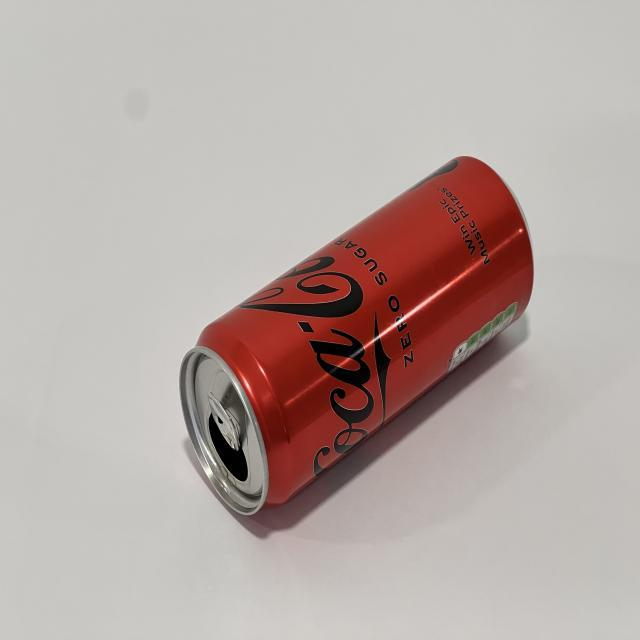kimloai: (180, 158, 532, 515)
